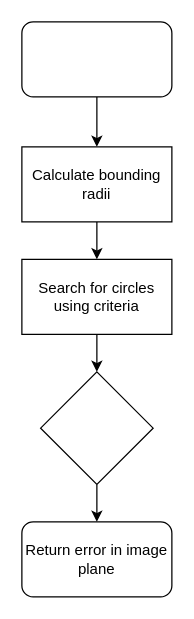
The diagram is 194 pixels wide and 619 high, and some of its shapes have lost their labels. Here are the shapes that lost their labels. From the top down, the centre of each, then its label:
At pixel 96 59: "Descend on small circle".
At pixel 96 427: "Exactly one circle is found?".
